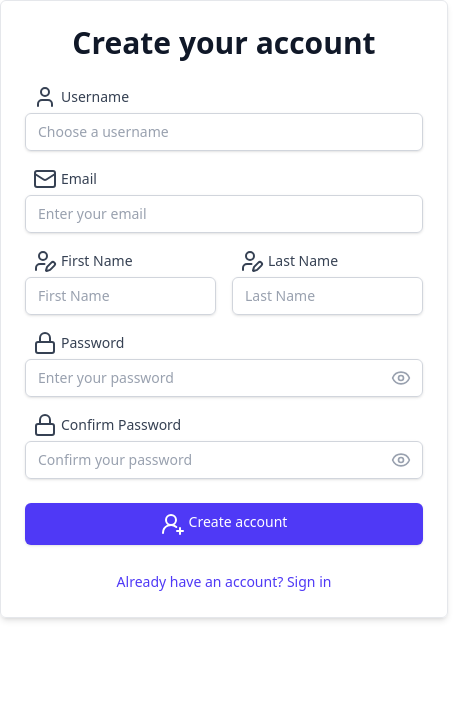
Scenario: RegisterForm › Form Validation › shows error when passwords do not match
The image size is (465, 720).
In the field labelled "Username": (224, 132) [25,113,423,151], type "testuser"
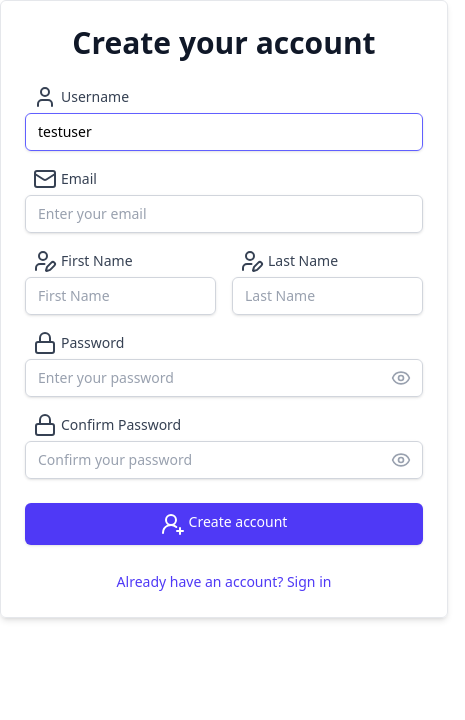
In the field labelled "Email": (224, 214) [25,195,423,233], type "test@example.com"
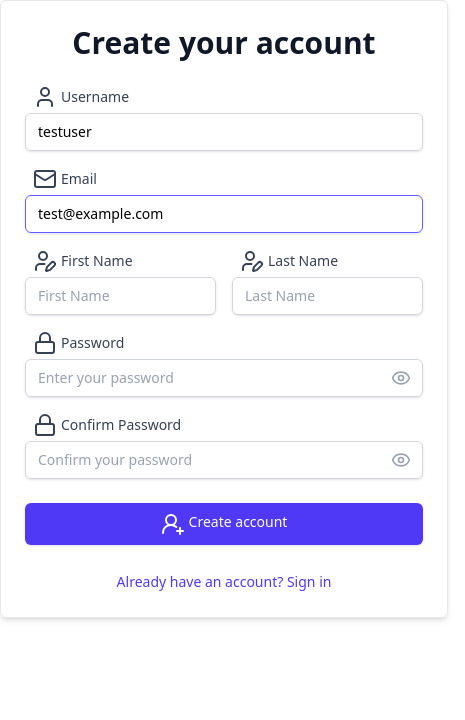
In the password field labelled "Password": (224, 378) [25,359,423,397], type "password123"
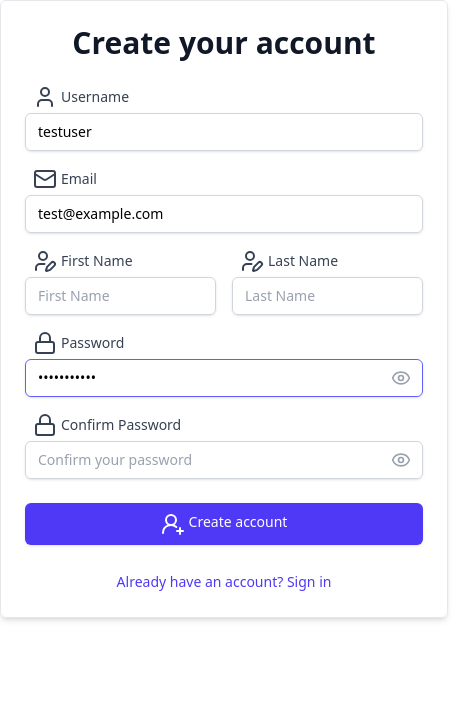
In the password field labelled "Confirm Password": (224, 460) [25,441,423,479], type "differentpassword"
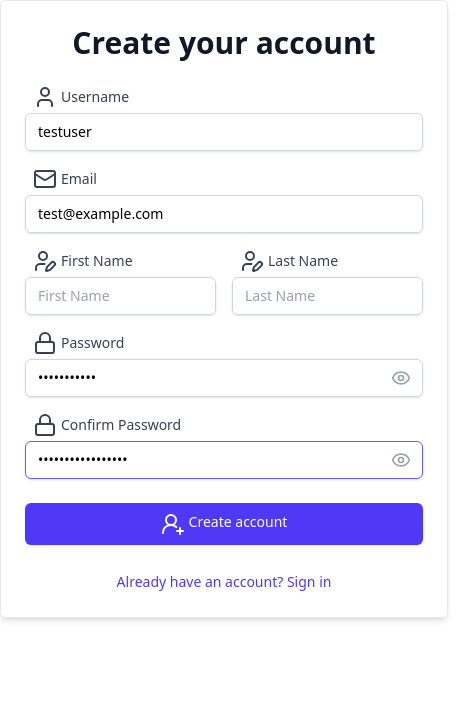
Click the button "Create account": (224, 524) [25,503,423,545]
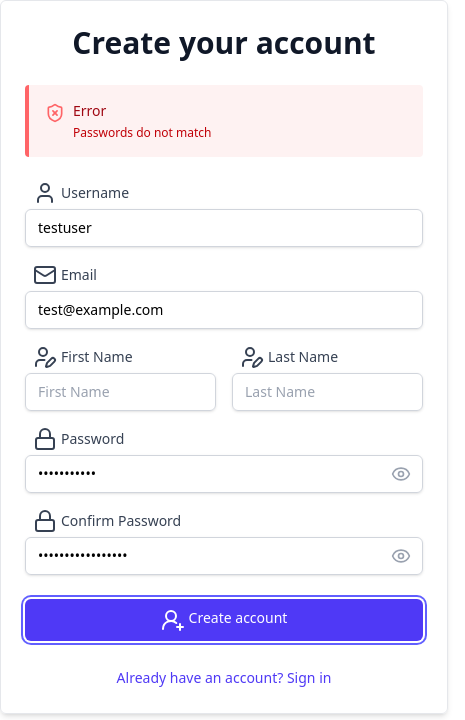
Expected: the text "Passwords do not match" is shown, [73,125,212,141]
